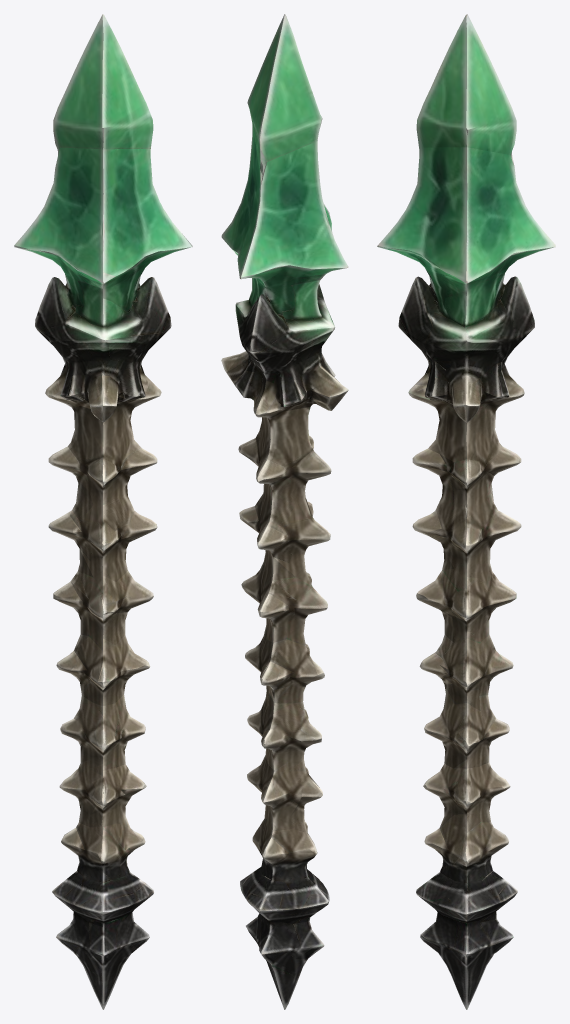
The model's file is wraithspine_spear.glb.
3 renders of one model, left to right at view 1: azimuth 90°, elevation 25°; view 2: azimuth 150°, elevation 25°; view 3: azimuth 270°, elevation 25°, orthographic.
Bounding box in the file's own units: 0.4133 × 3.1 × 0.5045.
1 material, 1 textured.
